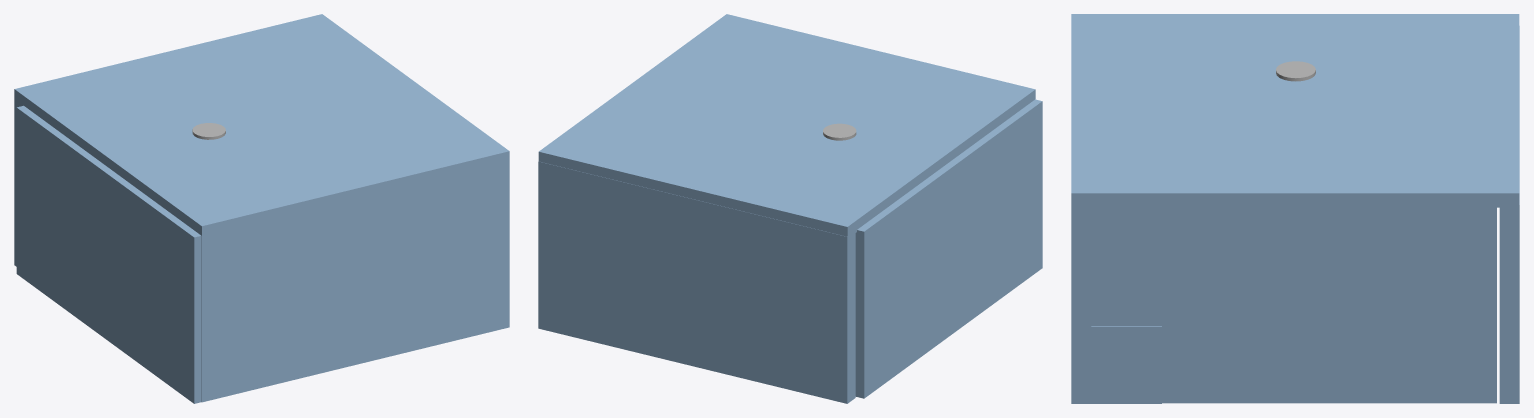
The model's file is Models.fbx.
3 views of the same model, side by side, from view 1: azimuth 30°, elevation 25°; view 2: azimuth 150°, elevation 25°; view 3: azimuth 270°, elevation 25° (orthographic). The views are drawn at different scales.
Parts seen in each view (by area): view 1: map cube trigger; view 2: map cube trigger; view 3: map cube trigger.
Part boxes in pixels (x1,y1,x2,y2): map cube trigger: (14,14,509,403); map cube trigger: (538,14,1042,403); map cube trigger: (1071,14,1519,403).
Bounding box in the file's own units: 2166 × 1176 × 2234.
